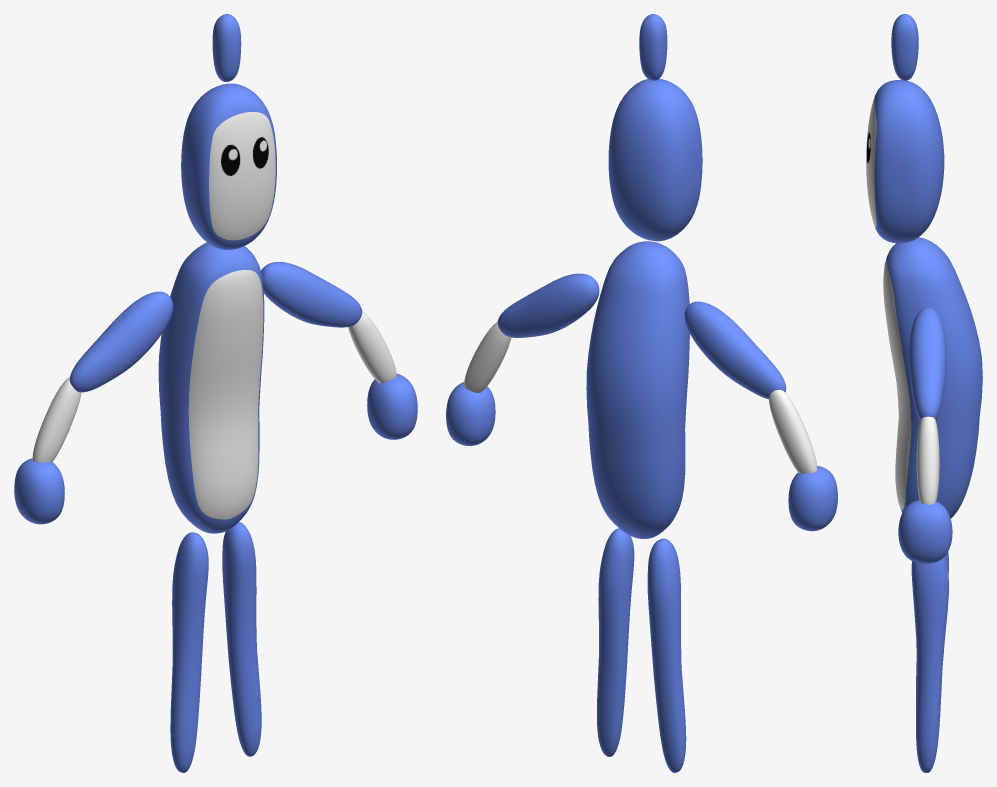
File: Toss_textured.fbx
3 renders of one model, left to right at view 1: azimuth 30°, elevation 25°; view 2: azimuth 150°, elevation 25°; view 3: azimuth 270°, elevation 25°, orthographic. The views are drawn at different scales.
Parts seen in each view (by area): view 1: Toss; view 2: Toss; view 3: Toss.
Part boxes in pixels (left/top/right/bottom): Toss: left=14, top=14, right=417, bottom=772; Toss: left=446, top=14, right=837, bottom=772; Toss: left=866, top=14, right=982, bottom=772.
Bounding box in the file's own units: 92.11 × 170 × 24.23.
